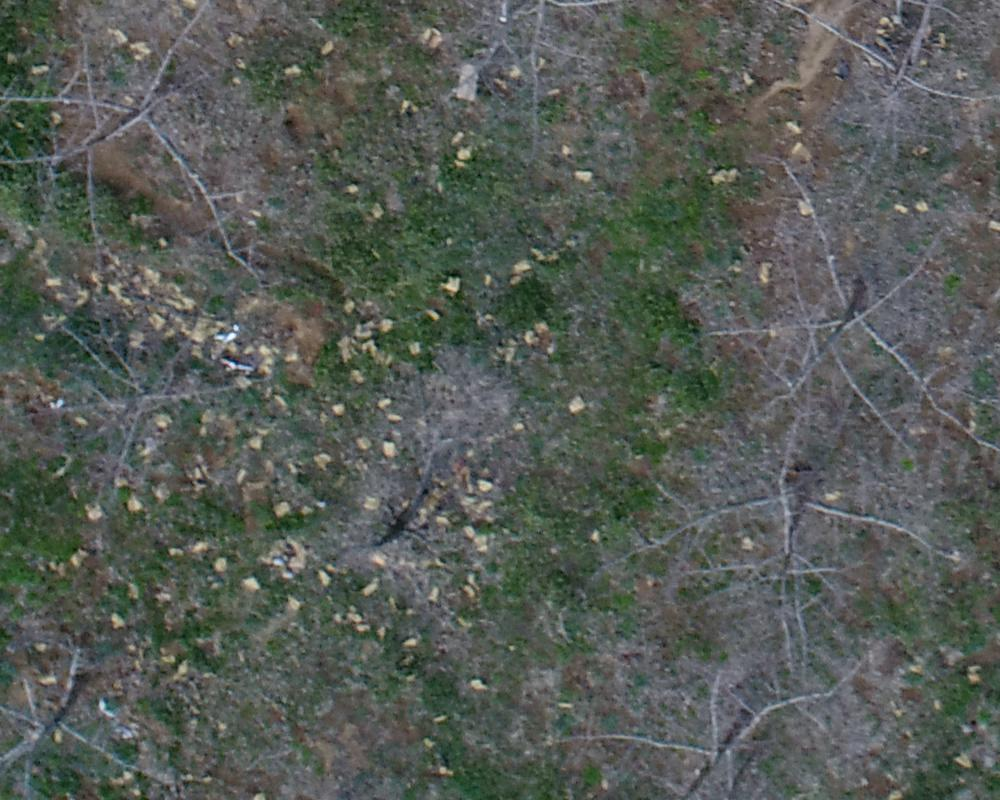apple: (693, 166, 990, 473), (584, 428, 955, 667), (10, 11, 279, 287), (544, 643, 891, 790), (723, 10, 990, 187), (38, 326, 263, 496), (10, 637, 182, 790)
